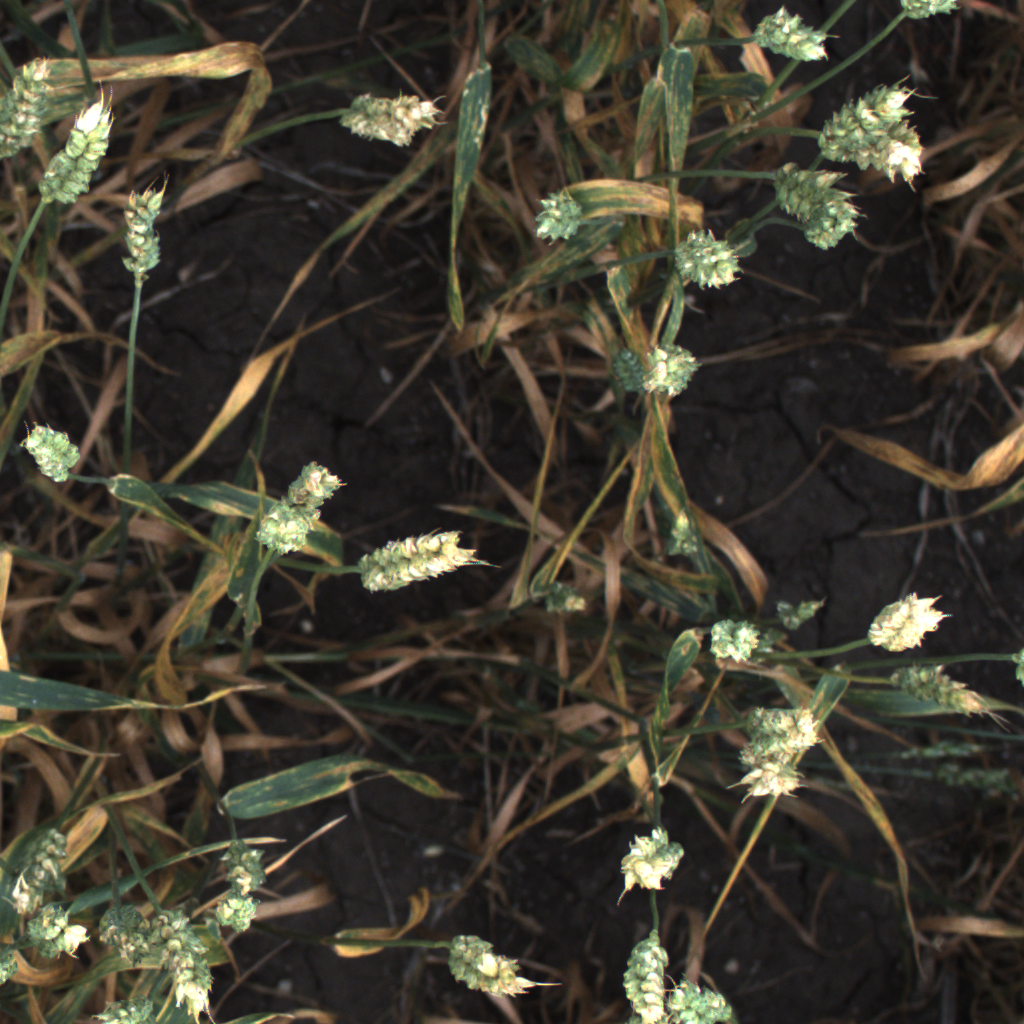wheat_head: (353, 517, 487, 603), (436, 919, 561, 1005), (34, 98, 117, 209), (147, 907, 231, 1015), (879, 657, 999, 732), (811, 87, 914, 168), (606, 811, 695, 904), (334, 87, 445, 157), (853, 584, 952, 656), (745, 5, 840, 78), (611, 926, 677, 1024), (8, 814, 72, 912), (107, 182, 170, 280), (725, 704, 829, 763), (265, 470, 333, 557), (694, 612, 770, 687), (0, 56, 56, 155), (668, 225, 746, 293), (770, 162, 845, 231), (92, 891, 153, 970), (863, 121, 932, 187), (17, 899, 88, 963), (662, 973, 747, 1024), (22, 415, 83, 485), (220, 841, 266, 931), (717, 755, 814, 797), (646, 334, 705, 403), (659, 499, 716, 570), (805, 195, 865, 255), (532, 183, 588, 247), (769, 590, 834, 638), (76, 989, 163, 1024), (603, 344, 647, 401)
